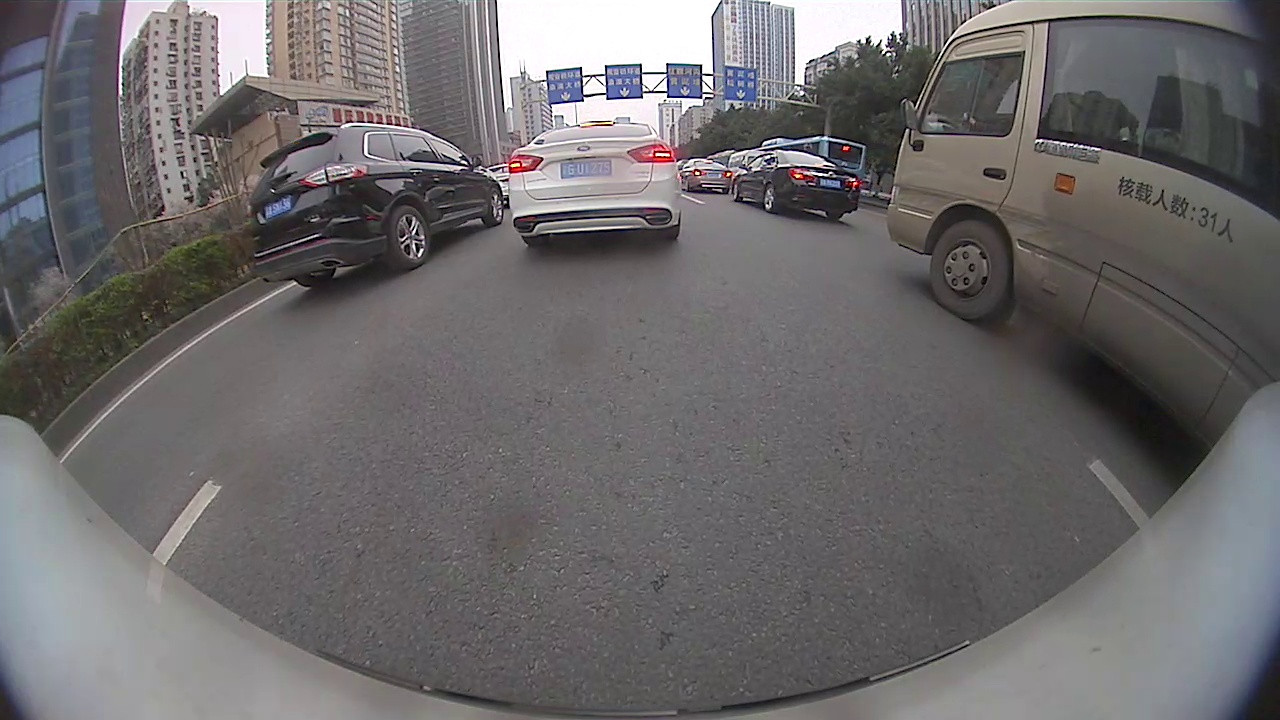bus: (884, 2, 1279, 451), (753, 136, 862, 184)
car: (250, 122, 503, 288), (509, 121, 684, 246), (735, 152, 861, 220), (686, 161, 733, 193), (487, 161, 508, 205)
front: (929, 218, 1014, 321), (482, 186, 503, 230), (730, 180, 743, 204)
rear: (385, 202, 430, 271), (762, 183, 776, 213)
